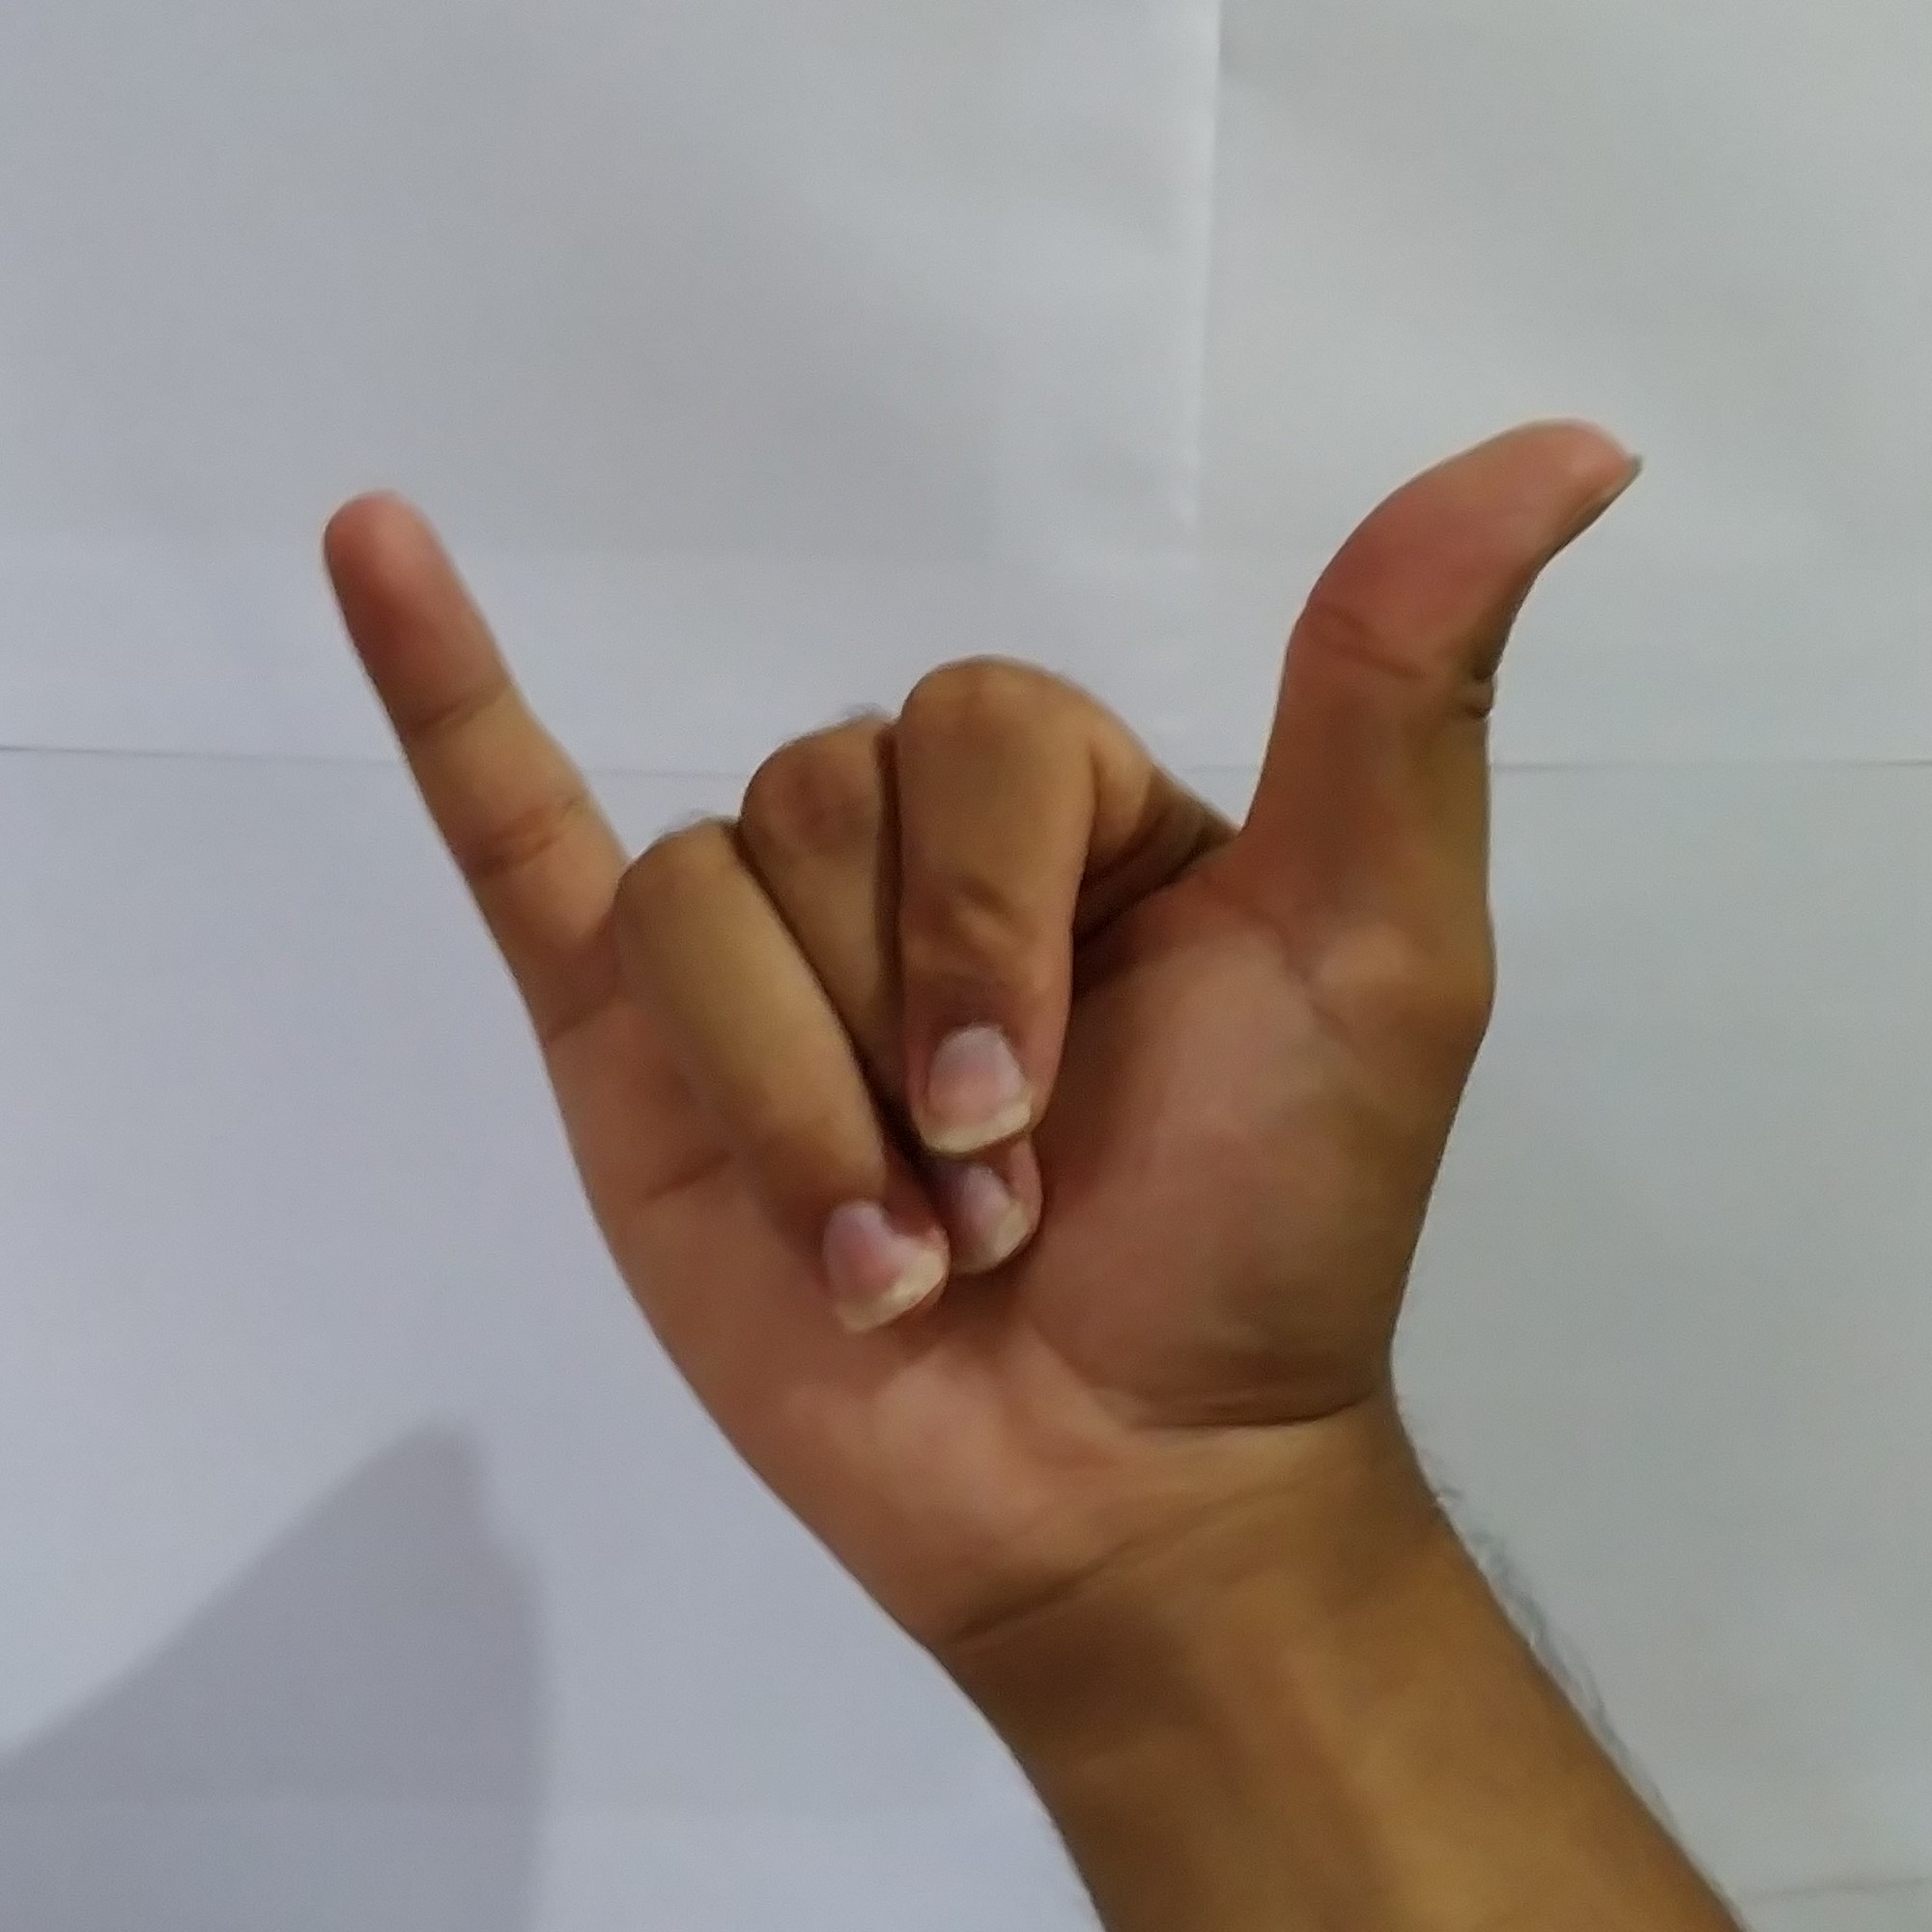Y: (285, 395, 1674, 1622)
